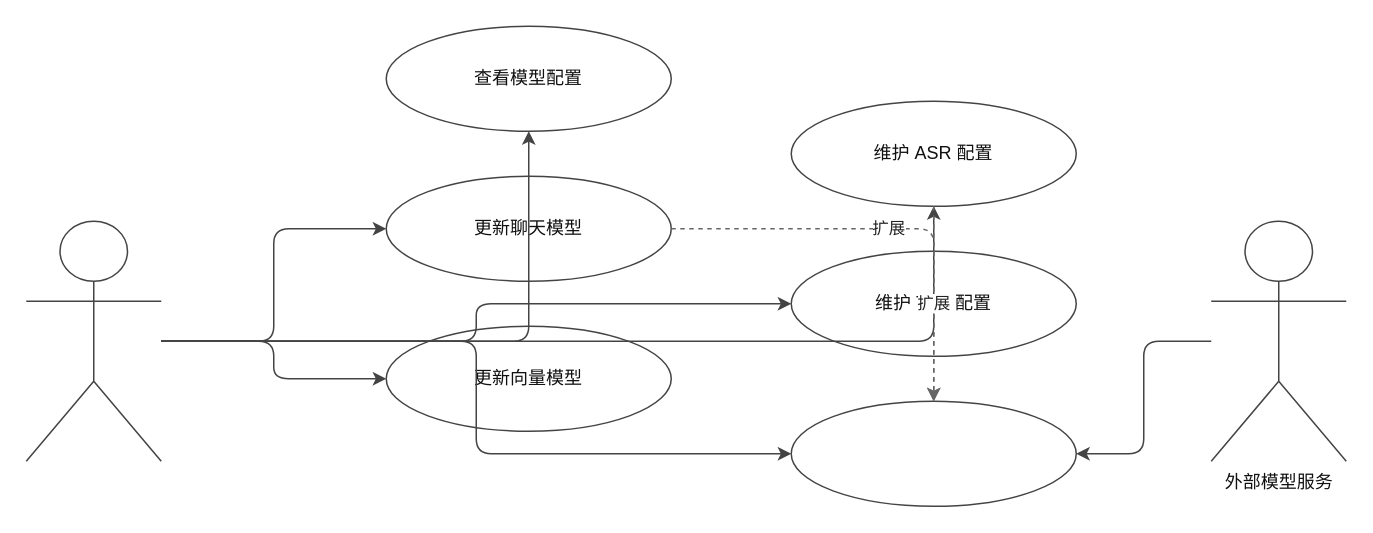
The diagram is 1373 pixels wide and 533 high, and some of its shapes have lost their labels. The shapes that lost their labels are listed below. From the top down, each one's box as (x1, y1, x2, y2) in pixels, then its label:
(25, 220, 161, 461): 管理员
(790, 400, 1076, 506): 测试服务连通性
